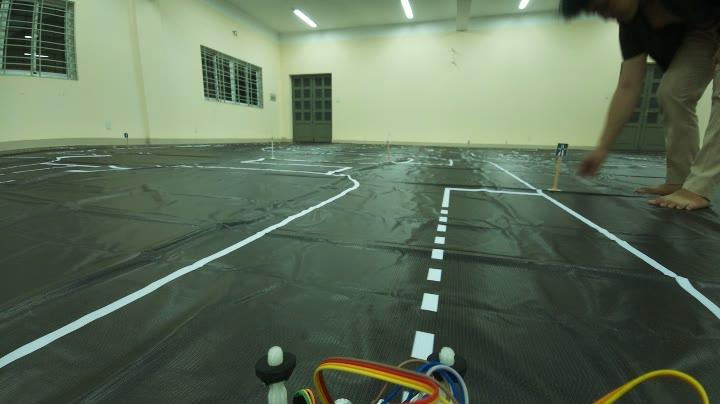highway_exit: (553, 139, 571, 161)
